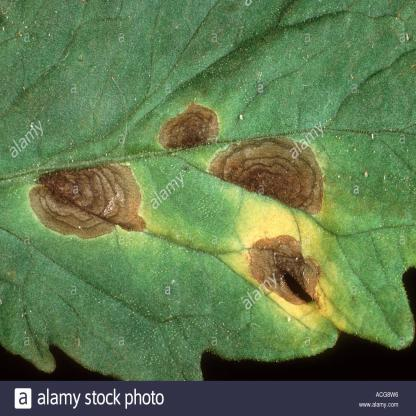Potato leaf early blight: (2, 1, 416, 381)
